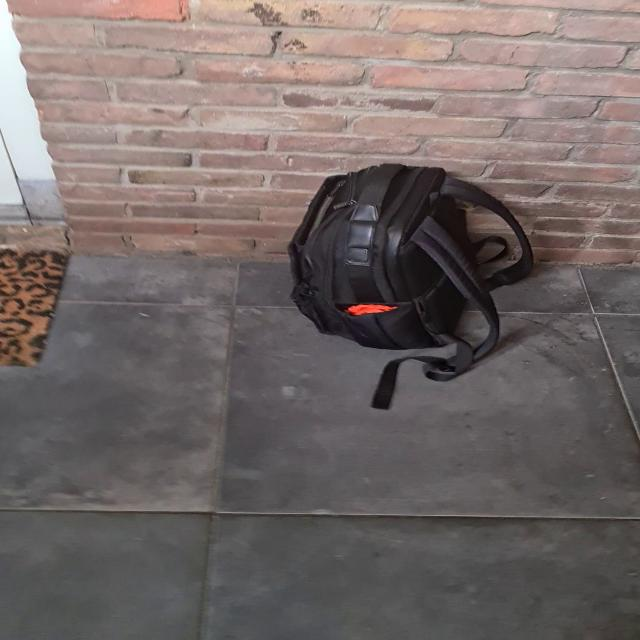backpack: (278, 155, 540, 374)
